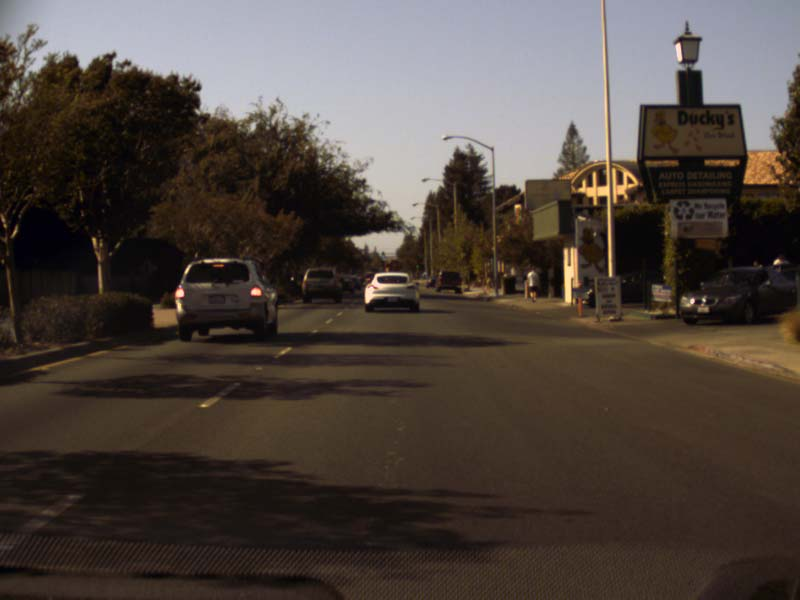Green: (416, 262, 419, 268)
